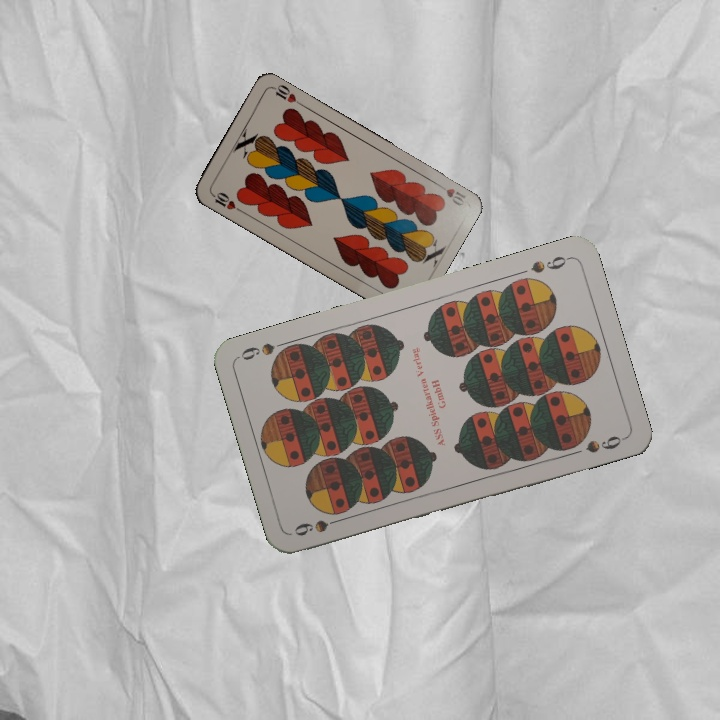H10: (432, 179, 468, 209), (207, 188, 244, 215)
S9: (290, 513, 348, 539), (527, 252, 573, 276)
